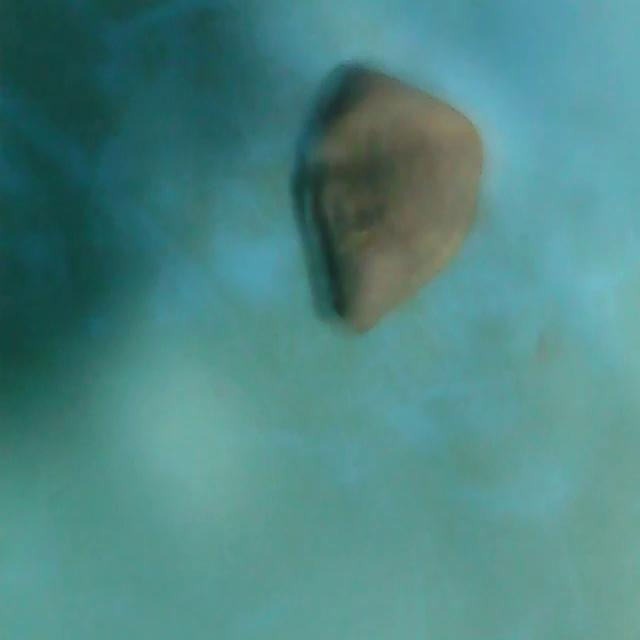rock: (306, 59, 486, 332)
